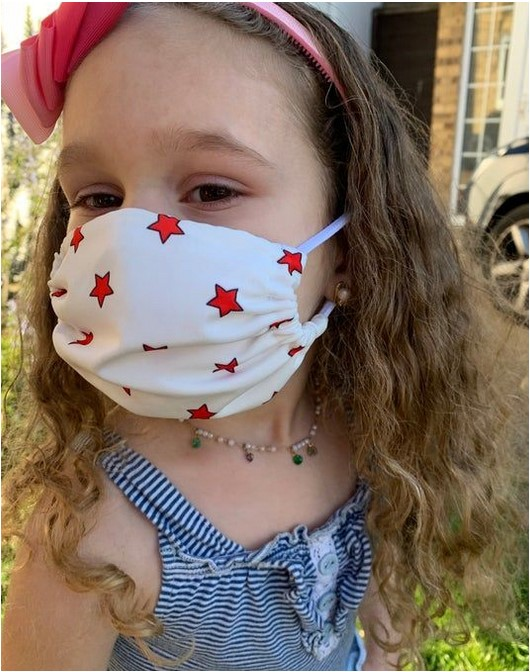face_with_mask: (32, 8, 361, 428)
